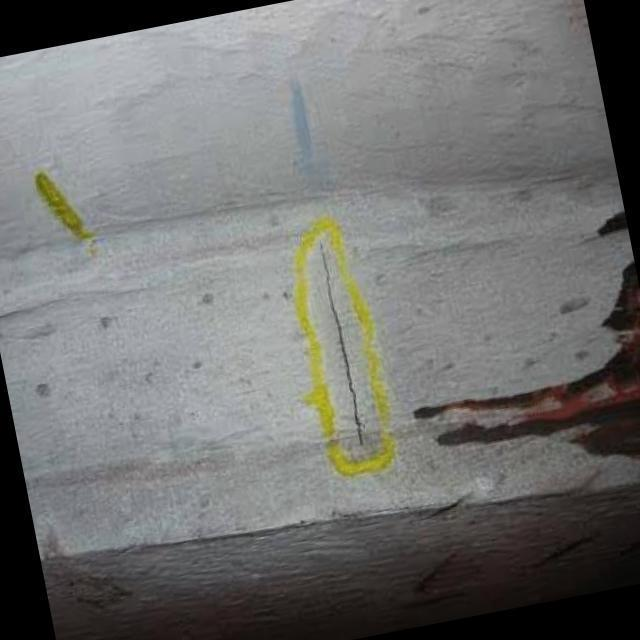defect: (315, 237, 370, 451)
